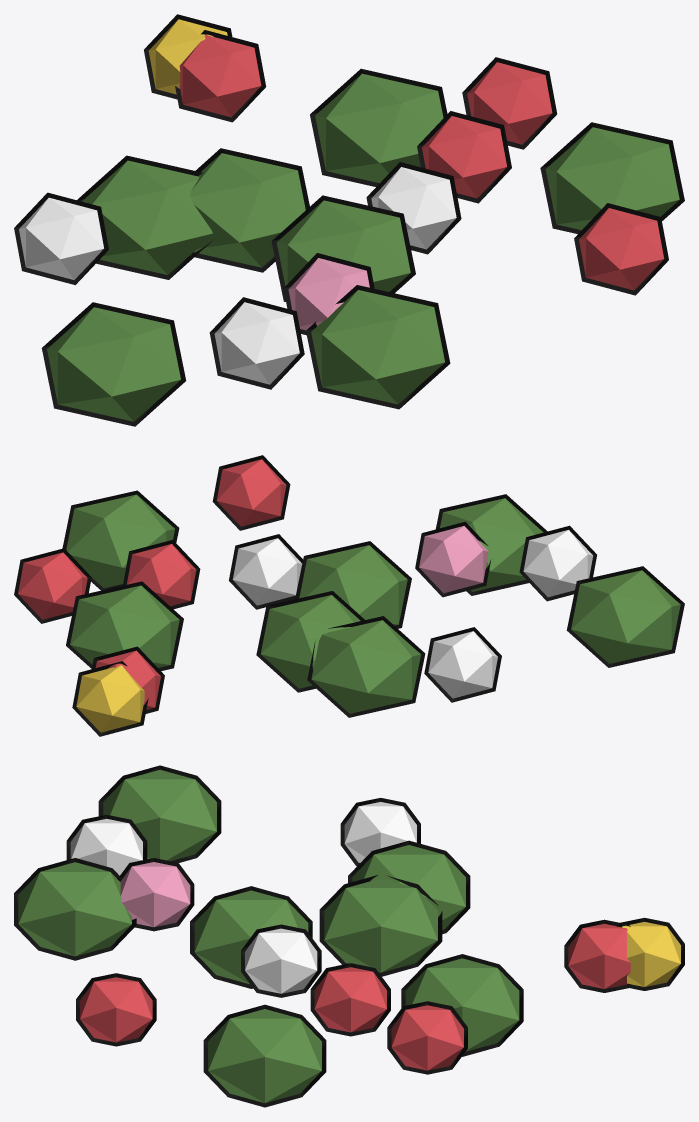
Rendered from Kir_cicek_1.fbx.
The picture shows the model from 3 angles, top to bottom: view 1: azimuth 30°, elevation 25°; view 2: azimuth 150°, elevation 25°; view 3: azimuth 270°, elevation 25°; orthographic projection. The views are drawn at different scales.
Visible parts, largest first — view 1: Kir_cicek_1; view 2: Kir_cicek_1; view 3: Kir_cicek_1.
Boxes of the visible parts, x1,y1,x2,y2 form: Kir_cicek_1: (14, 14, 684, 426); Kir_cicek_1: (14, 455, 684, 736); Kir_cicek_1: (14, 765, 684, 1107).
Bounding box in the file's own units: 2.26 × 0.3144 × 2.21.
